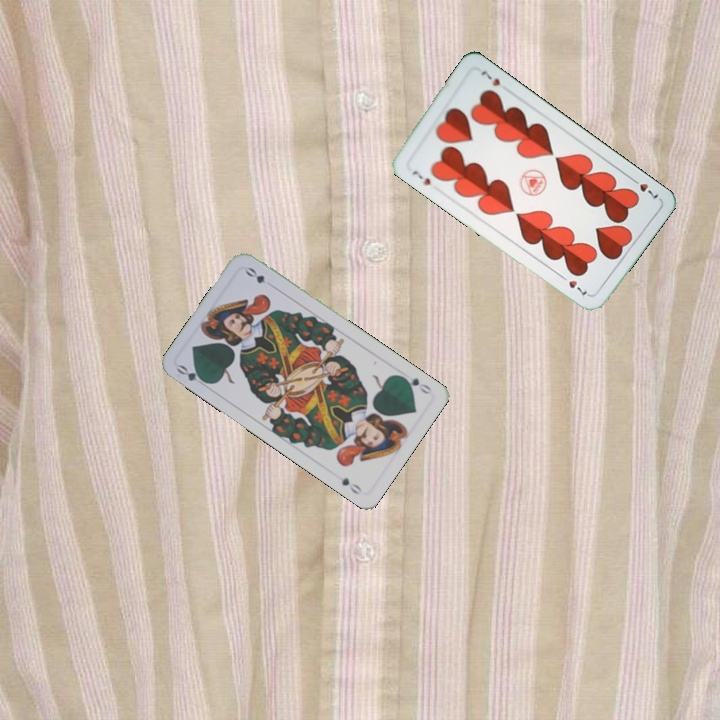GO: (173, 361, 211, 386), (397, 372, 434, 397)
H7: (626, 173, 661, 203), (409, 166, 434, 188)
